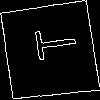T: (24, 26, 78, 63)
